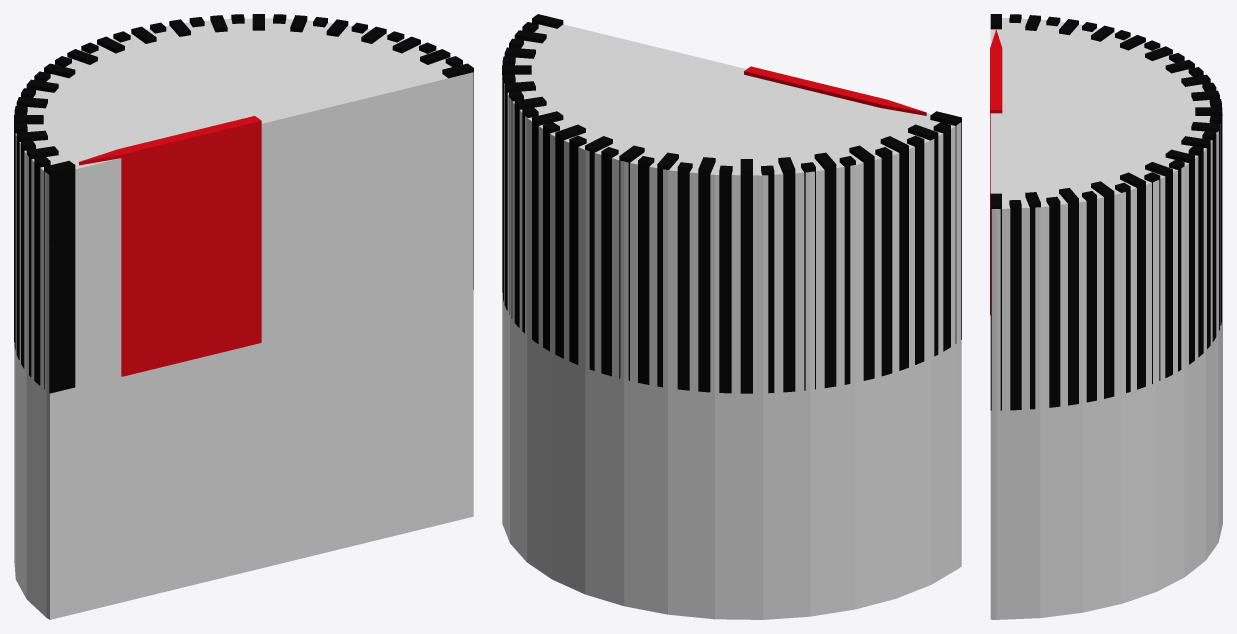
The model's file is Speedometer(3).glb.
3 renders of one model, left to right at view 1: azimuth 30°, elevation 25°; view 2: azimuth 150°, elevation 25°; view 3: azimuth 270°, elevation 25°, orthographic. The views are drawn at different scales.
Visible parts, largest first — view 1: Base.001, Pointer; view 2: Base.001, Pointer; view 3: Base.001, Pointer.
Part boxes in pixels (box(x1,y1,x2,y2)): Base.001: box(14, 14, 473, 619); Pointer: box(79, 116, 261, 376); Base.001: box(502, 14, 961, 619); Pointer: box(744, 66, 926, 115); Base.001: box(990, 14, 1222, 619); Pointer: box(990, 29, 1002, 315).
Bounding box in the file's own units: 4 × 4.04 × 2.05.
